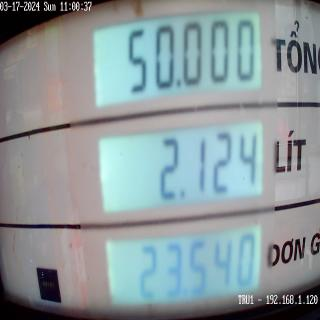screen: (86, 7, 262, 318)
